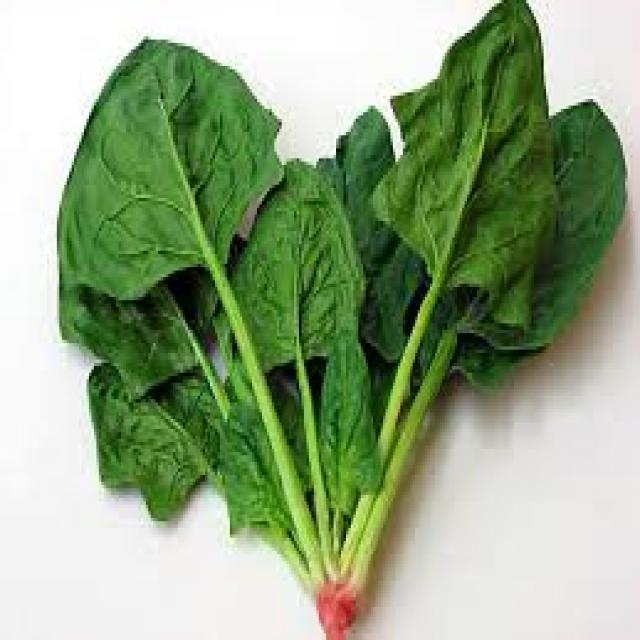Spinach bagged/loose: (59, 3, 628, 635)
